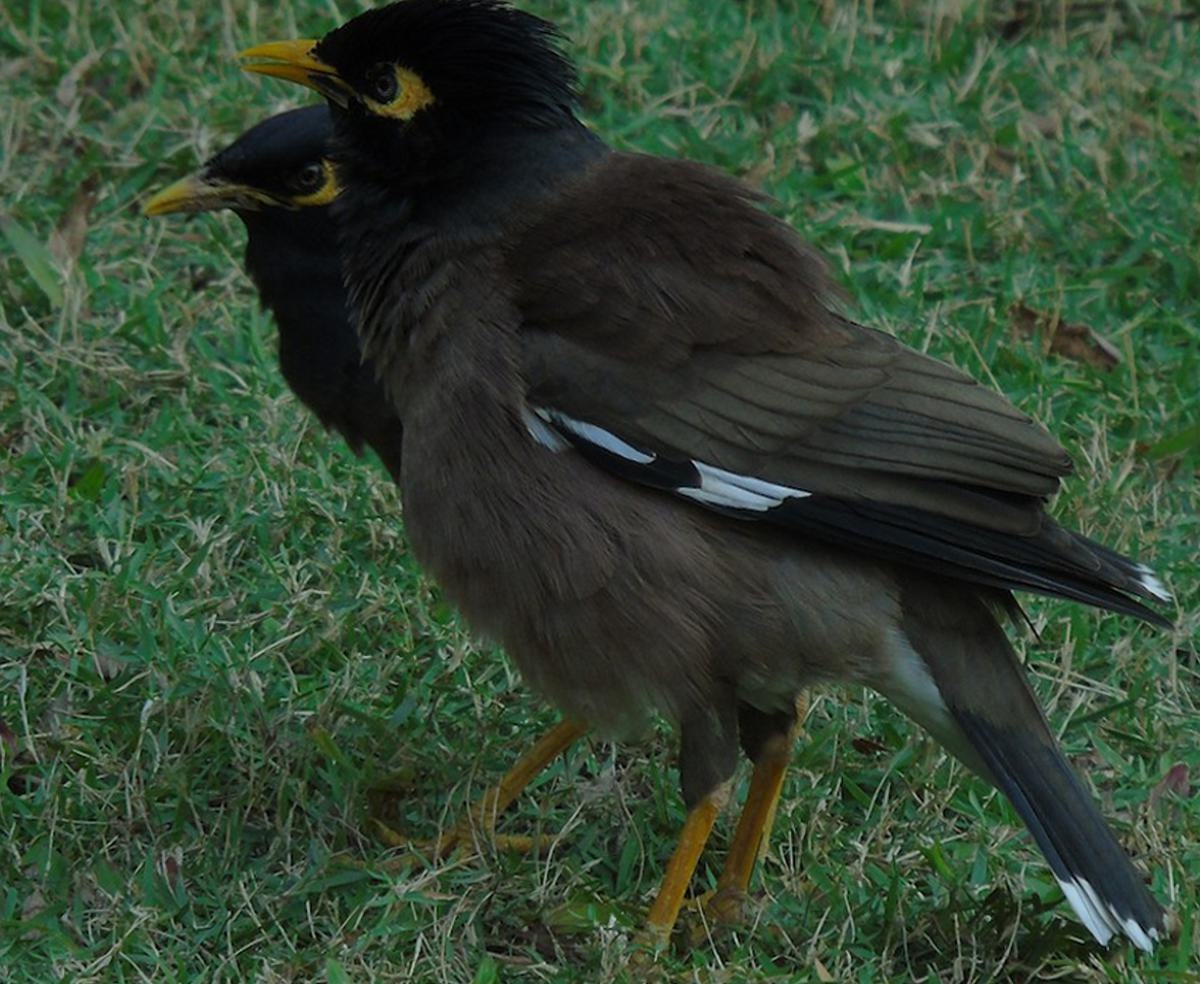myna: (246, 14, 1076, 811)
